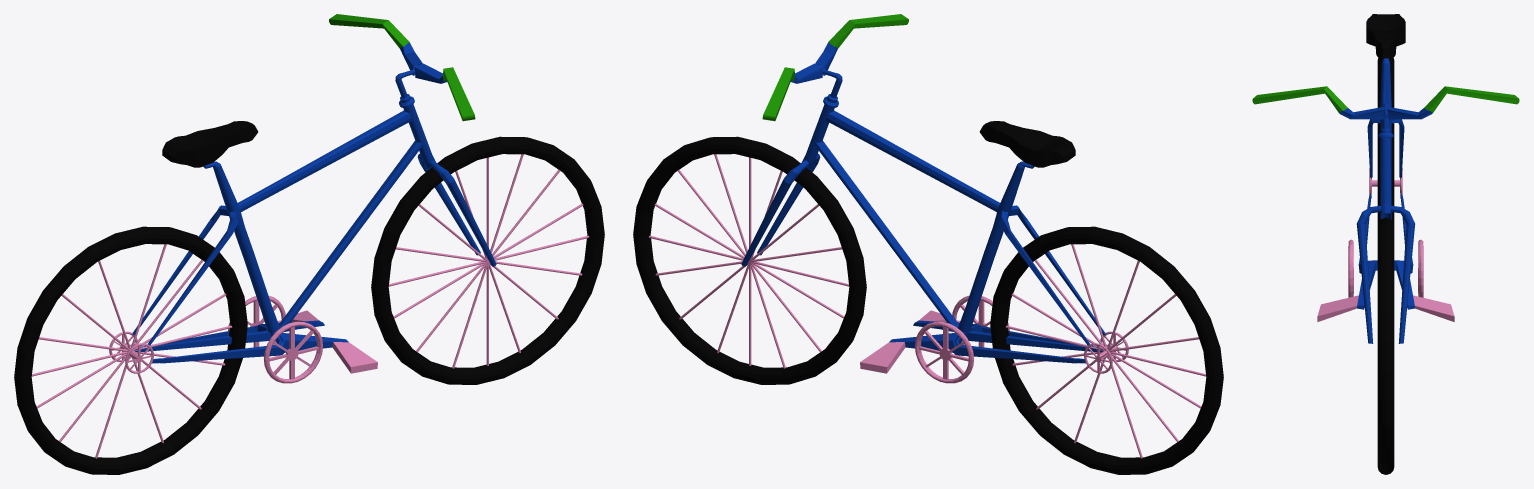
The model's file is Bike_EM.fbx.
The picture shows the model from 3 angles, left to right: view 1: azimuth 30°, elevation 25°; view 2: azimuth 150°, elevation 25°; view 3: azimuth 270°, elevation 25°; orthographic projection. The views are drawn at different scales.
Visible parts, largest first — view 1: Bike_EM; view 2: Bike_EM; view 3: Bike_EM.
Boxes of the visible parts, bbox=[...] form: Bike_EM: bbox=[14, 14, 604, 474]; Bike_EM: bbox=[633, 14, 1223, 474]; Bike_EM: bbox=[1252, 14, 1519, 474].
Size of the model in its own units: 387 by 224 by 157.
